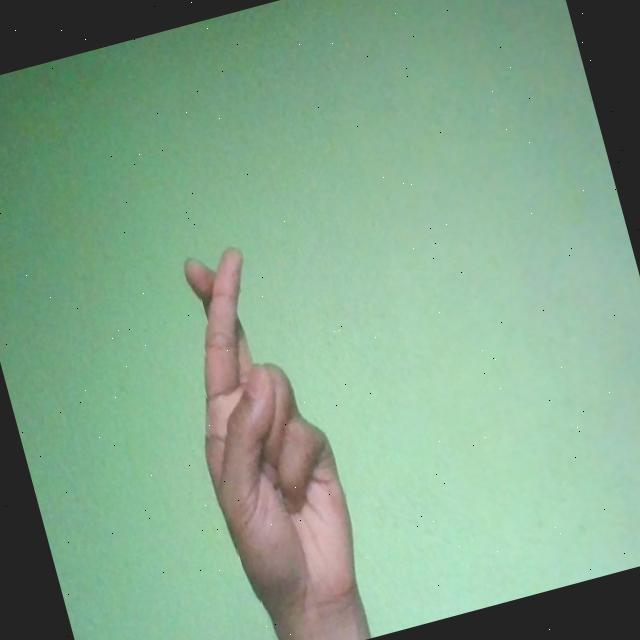Ok: (152, 232, 374, 638)
